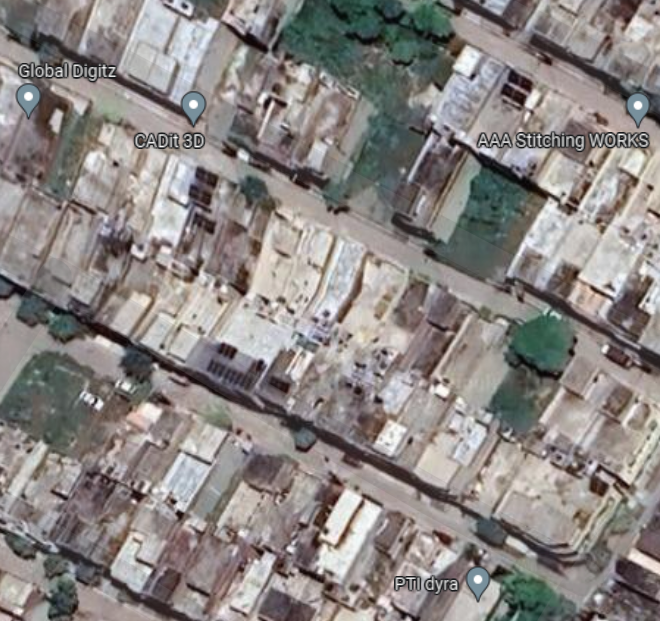solar-panel: (180, 158, 220, 227), (216, 341, 256, 385)
